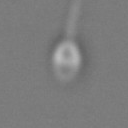normal: (61, 1, 82, 32)
